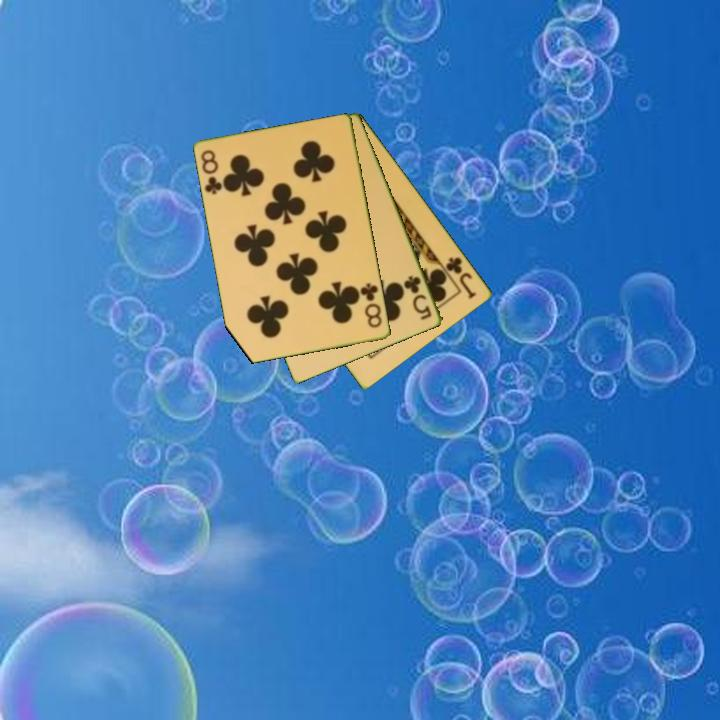5c: (401, 272, 435, 323)
8c: (357, 279, 385, 331), (198, 146, 225, 198)
Jc: (442, 253, 480, 302)
